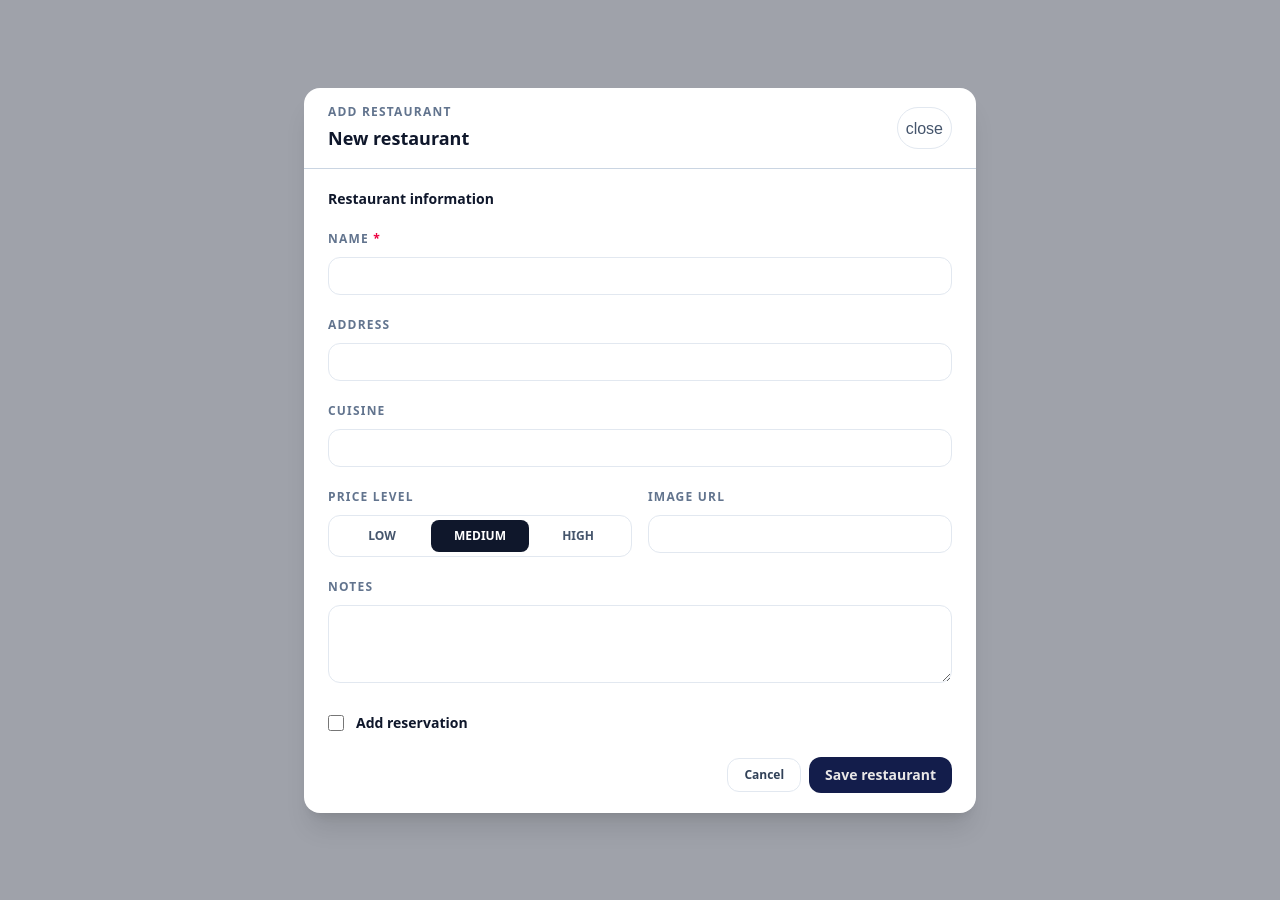
Test case: AddRestaurantModal › validates reservation fields when add reservation is enabled
Type "Noma" into the field below "Name". click: coordinates (640, 276)
box: [328,256,952,294]
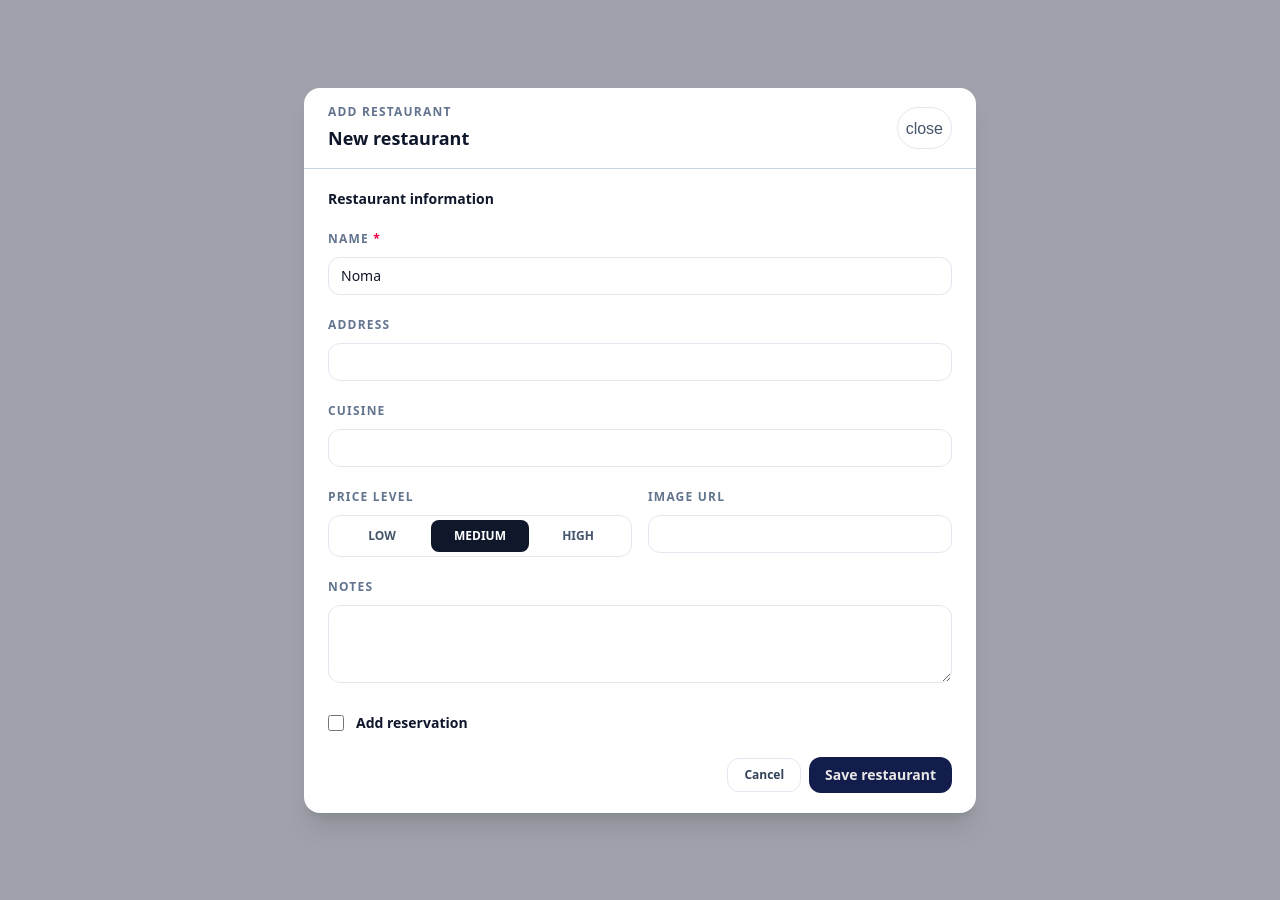
Click the checkbox. click: coordinates (336, 722)
box: [328,714,344,730]
(page scrolled)
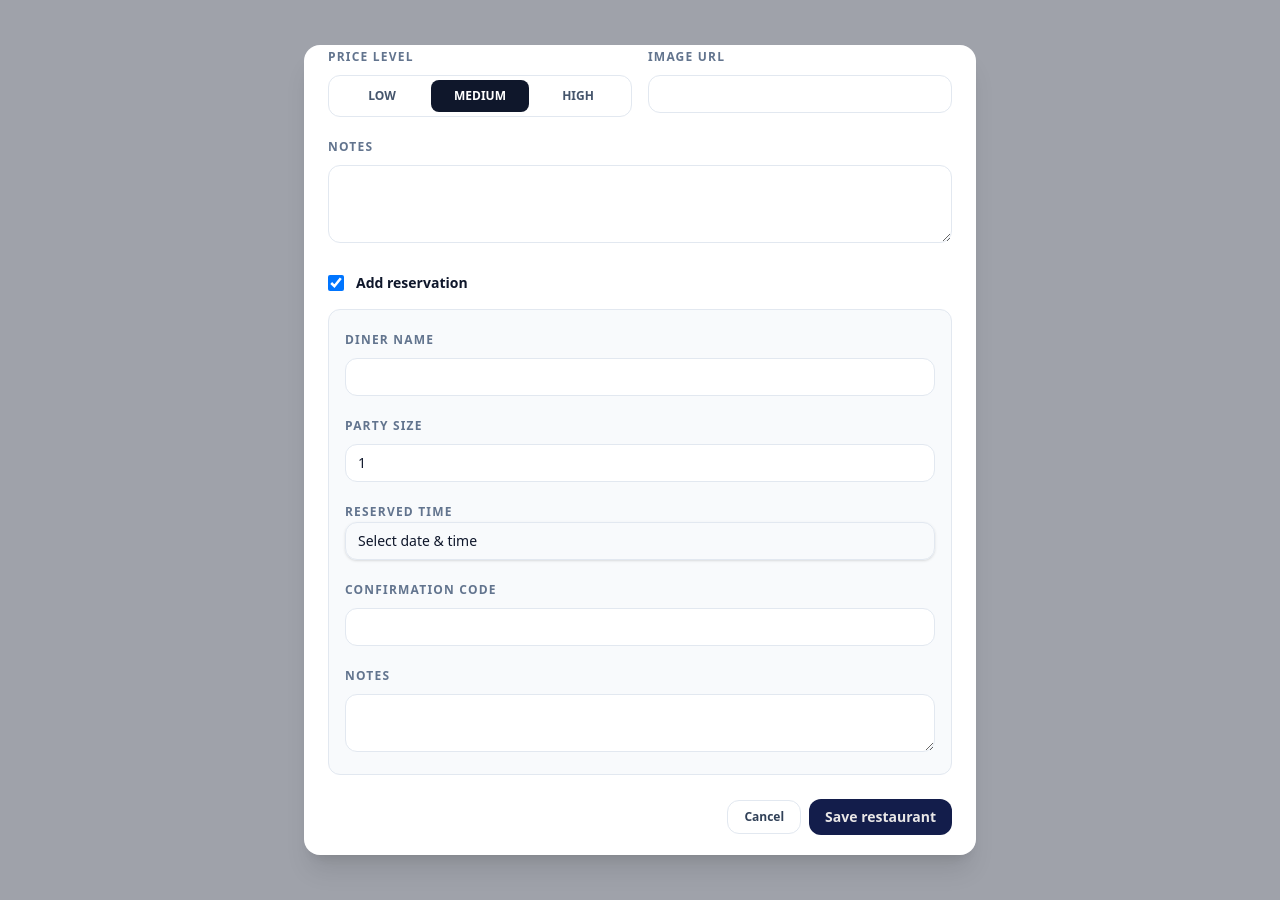
Click the button "Save restaurant". click: coordinates (881, 817)
box: [809,799,952,835]
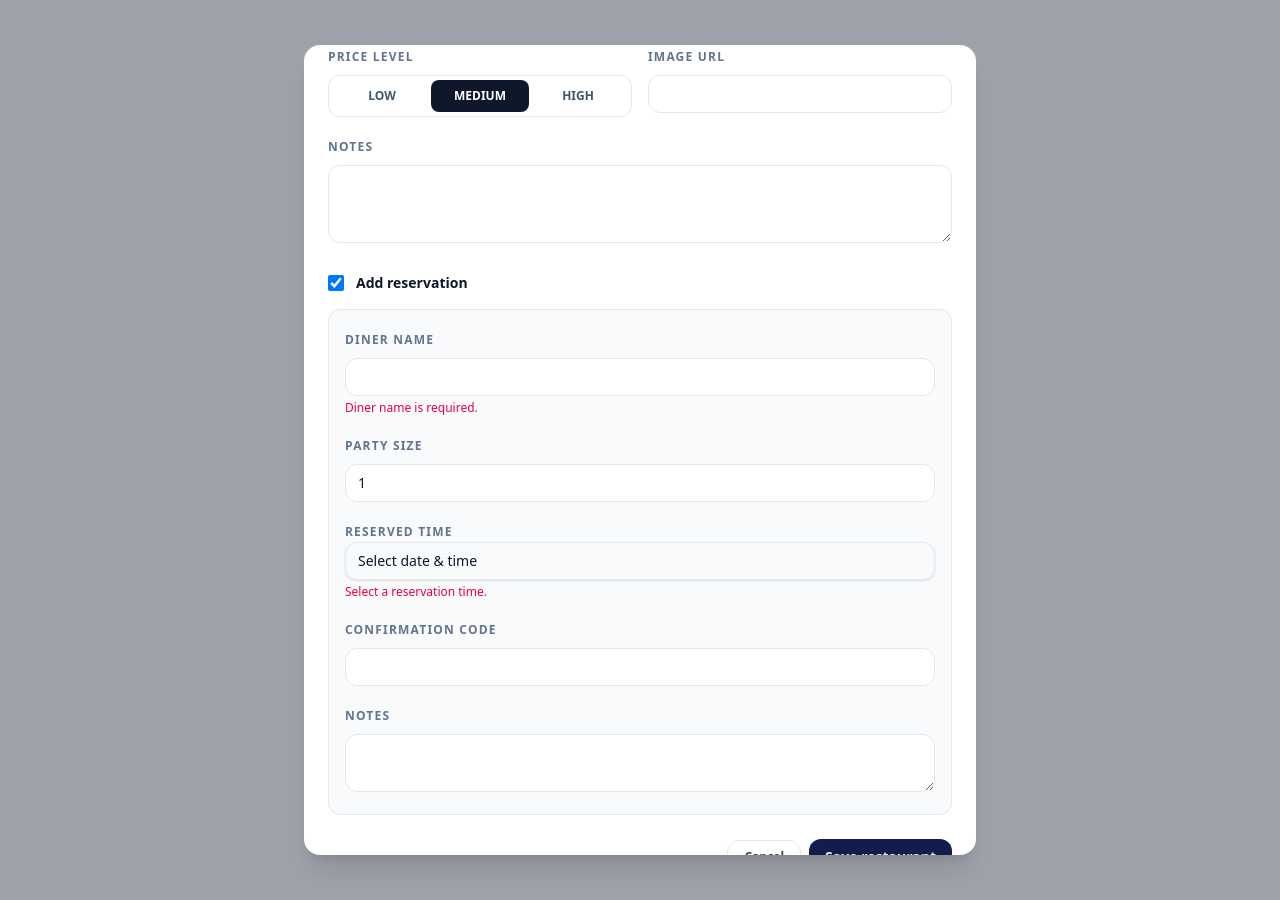
Now the text "Diner name is required." is shown, box [345,399,478,416]
Now the text "Select a reservation time." is shown, box [345,583,487,600]
